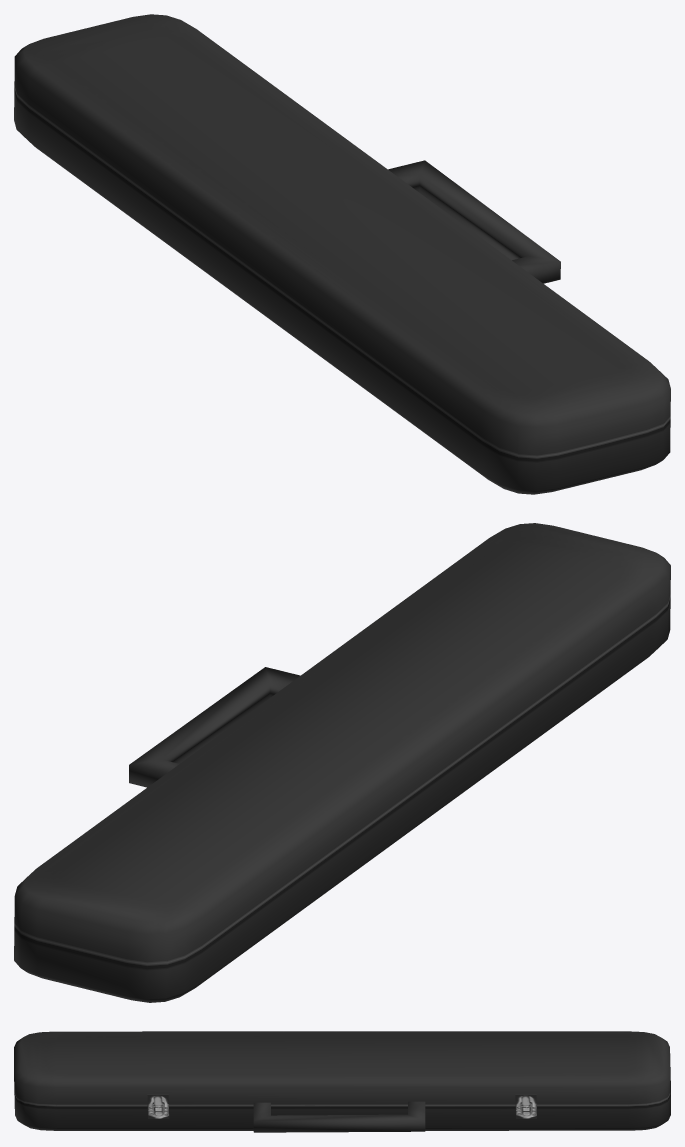
Rendered from FluteCase_Ground.fbx.
3 views of the same model, one above another, from view 1: azimuth 30°, elevation 25°; view 2: azimuth 150°, elevation 25°; view 3: azimuth 270°, elevation 25° (orthographic). The views are drawn at different scales.
Parts seen in each view (by area): view 1: FluteCase_Ground; view 2: FluteCase_Ground; view 3: FluteCase_Ground.
Boxes of the visible parts, left/top/right/bottom form: FluteCase_Ground: left=14, top=14, right=670, bottom=494; FluteCase_Ground: left=14, top=523, right=670, bottom=1002; FluteCase_Ground: left=14, top=1031, right=670, bottom=1132.
Bounding box in the file's own units: 0.8036 × 0.2639 × 3.09.
